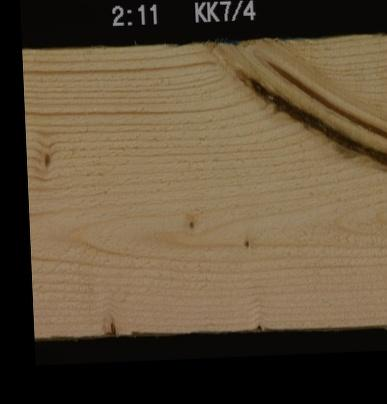edge_knot: (101, 310, 125, 336), (248, 319, 265, 330)
small_knot: (40, 145, 51, 170), (184, 215, 197, 232), (240, 236, 252, 250)
